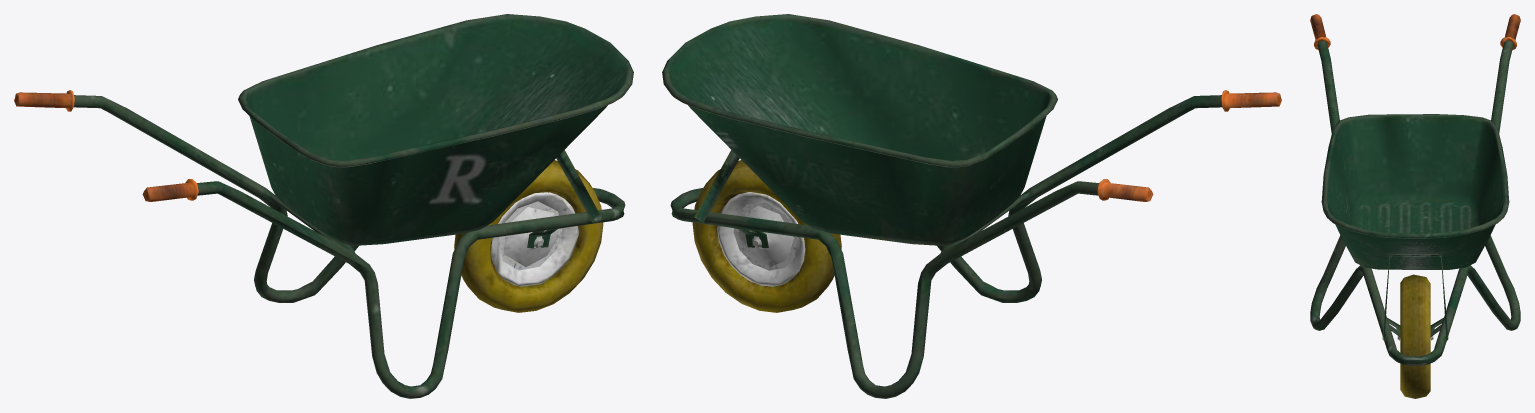
Rendered from wheelbarrow.glb.
3 views of the same model, side by side, from view 1: azimuth 30°, elevation 25°; view 2: azimuth 150°, elevation 25°; view 3: azimuth 270°, elevation 25° (orthographic). The views are drawn at different scales.
Parts seen in each view (by area): view 1: wheelbarrow; view 2: wheelbarrow; view 3: wheelbarrow.
Part boxes in pixels (left/top/right/bottom): wheelbarrow: left=14, top=14, right=633, bottom=398; wheelbarrow: left=662, top=14, right=1281, bottom=398; wheelbarrow: left=1310, top=14, right=1520, bottom=398.
Bounding box in the file's own units: 1.5 × 0.7356 × 0.6615.
Materials: 1 (1 with a texture image).
